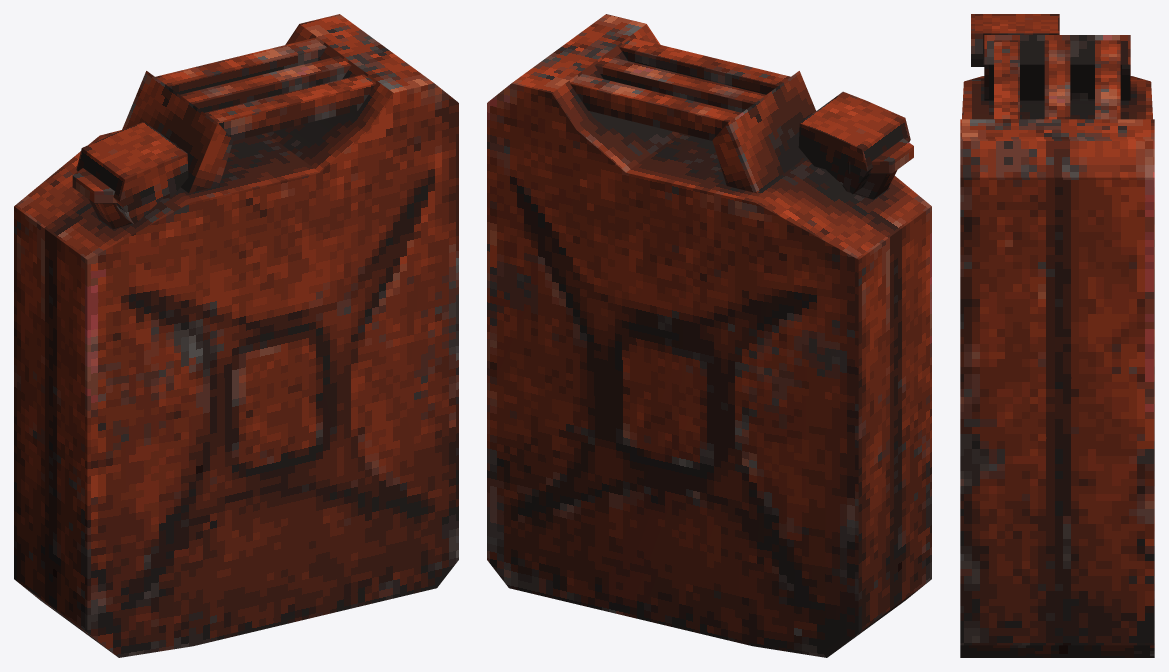
The model's file is jerry_can_red.glb.
3 renders of one model, left to right at view 1: azimuth 30°, elevation 25°; view 2: azimuth 150°, elevation 25°; view 3: azimuth 270°, elevation 25°, orthographic. The views are drawn at different scales.
Parts seen in each view (by area): view 1: JerryCan; view 2: JerryCan; view 3: JerryCan.
Boxes of the visible parts, left/top/right/bottom form: JerryCan: left=14, top=14, right=458, bottom=657; JerryCan: left=487, top=14, right=931, bottom=657; JerryCan: left=960, top=14, right=1154, bottom=657.
Bounding box in the file's own units: 0.3412 × 0.4584 × 0.1552.
1 material, 1 textured.
